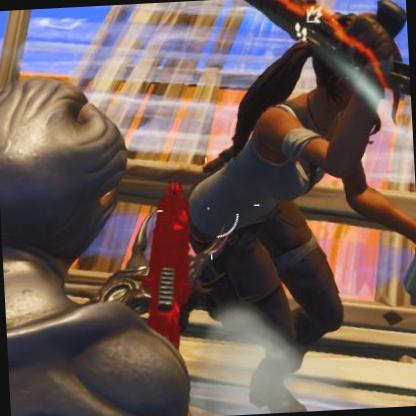person: (172, 5, 416, 416)
